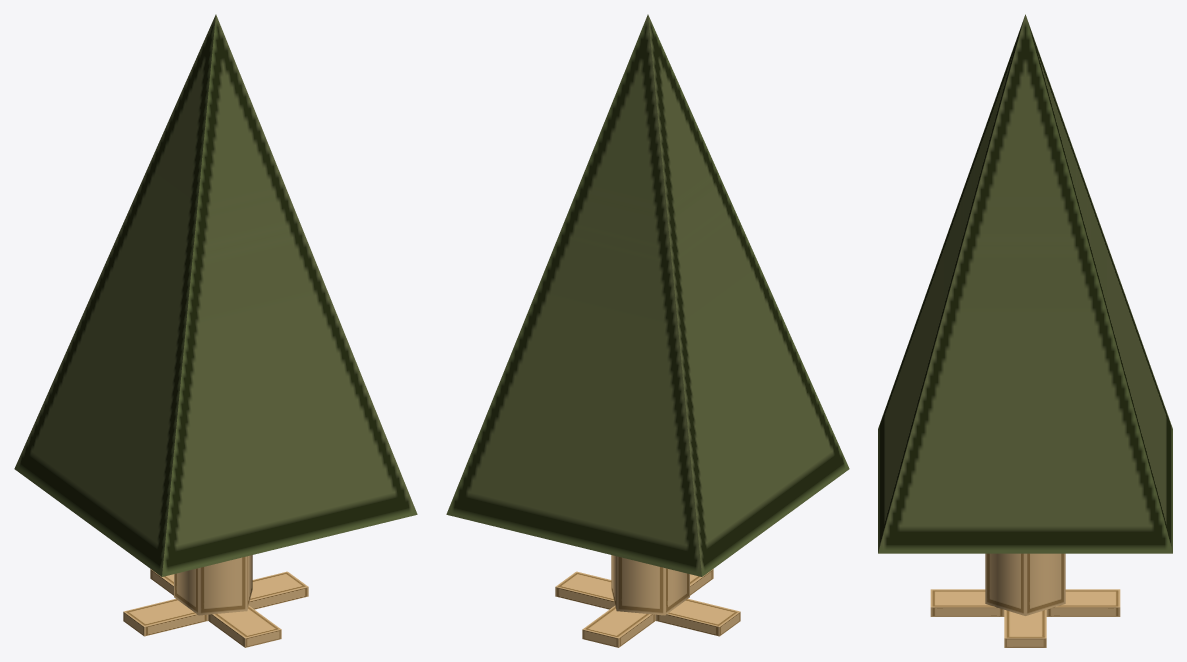
File: Tree004.FBX
3 renders of one model, left to right at view 1: azimuth 30°, elevation 25°; view 2: azimuth 150°, elevation 25°; view 3: azimuth 270°, elevation 25°, orthographic.
Visible parts, largest first — view 1: tree004; view 2: tree004; view 3: tree004.
Part boxes in pixels (left/top/right/bottom): tree004: left=14, top=14, right=417, bottom=647; tree004: left=446, top=14, right=849, bottom=647; tree004: left=878, top=14, right=1172, bottom=647.
Bounding box in the file's own units: 140 × 311 × 140.
Materials: 1 (1 with a texture image).
